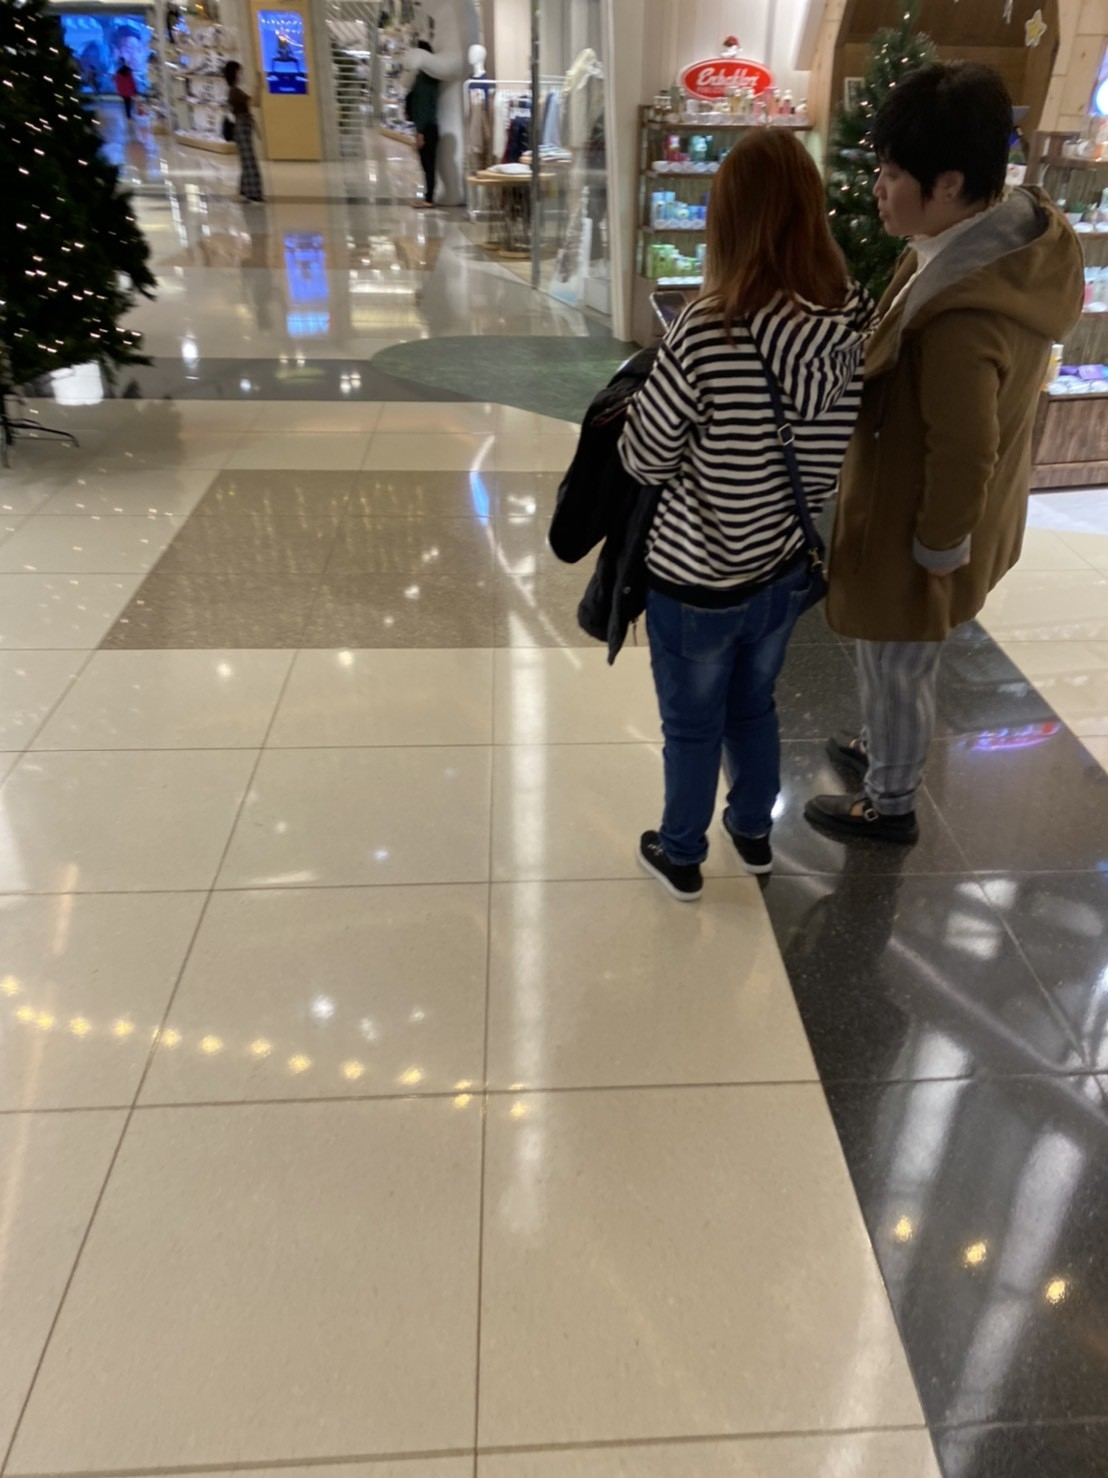people: (686, 131, 855, 890), (855, 71, 1000, 838), (397, 38, 447, 223), (219, 62, 276, 204), (112, 59, 140, 116)
